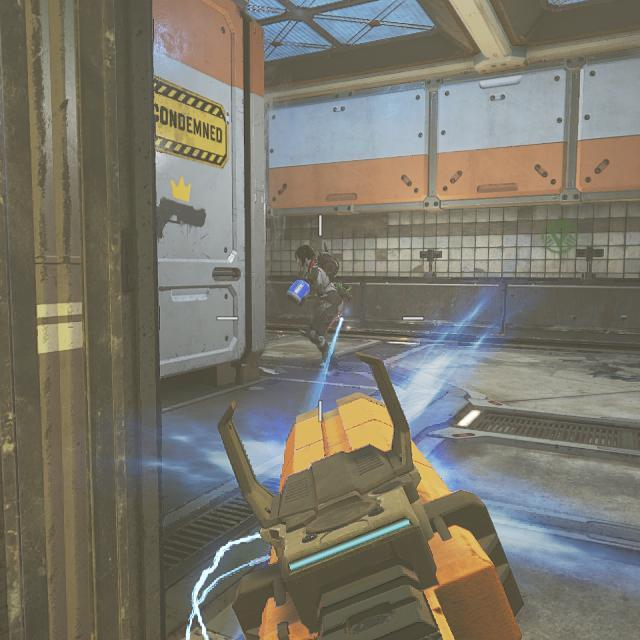avatar: (287, 242, 346, 366)
